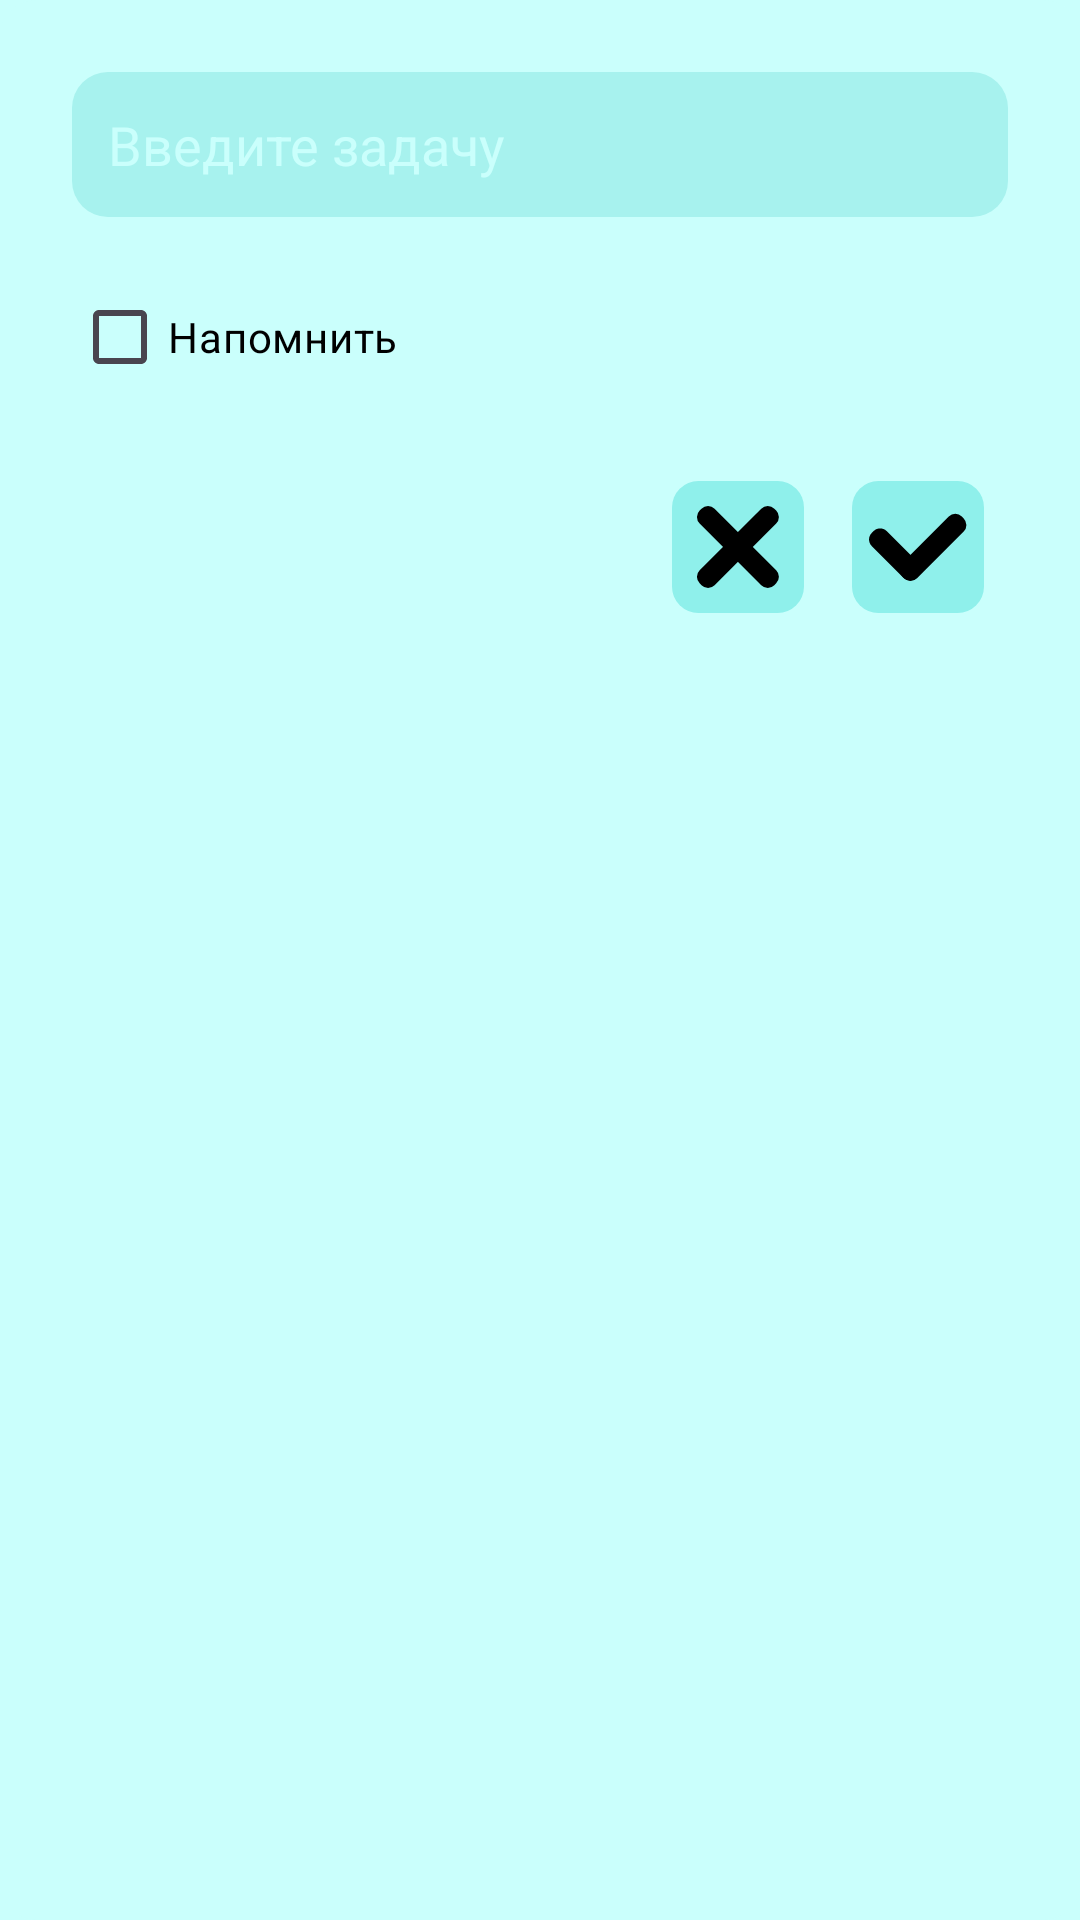

Icons on this 1080 x 1920 Android screen, each with the point to tap as point (x, y):
apply: point (918, 547)
stop: point (738, 547)
